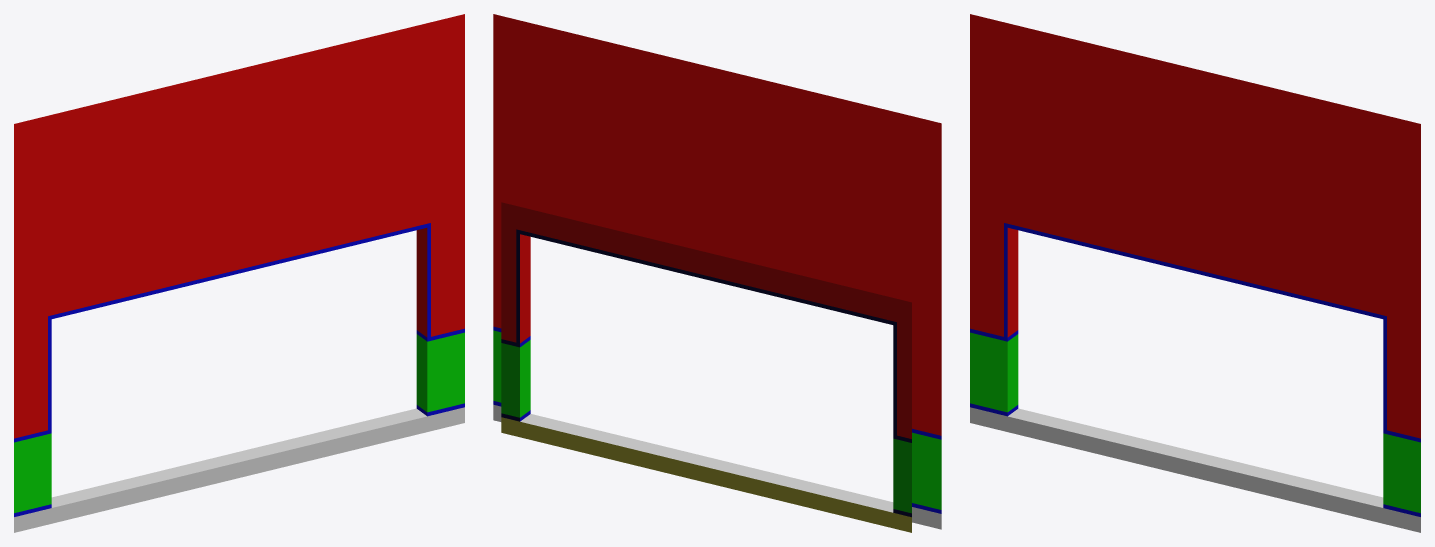
The model's file is SM_Room6xXDoorE.fbx.
3 renders of one model, left to right at view 1: azimuth 30°, elevation 25°; view 2: azimuth 150°, elevation 25°; view 3: azimuth 330°, elevation 25°, orthographic.
Visible parts, largest first — view 1: SM_Room6xXDoorE; view 2: SM_Room6xXDoorE; view 3: SM_Room6xXDoorE.
Part boxes in pixels (<box>): SM_Room6xXDoorE: <box>14,14,464,532</box>; SM_Room6xXDoorE: <box>493,14,941,532</box>; SM_Room6xXDoorE: <box>970,14,1420,532</box>.
Size of the model in its own units: 600 by 520 by 25.
